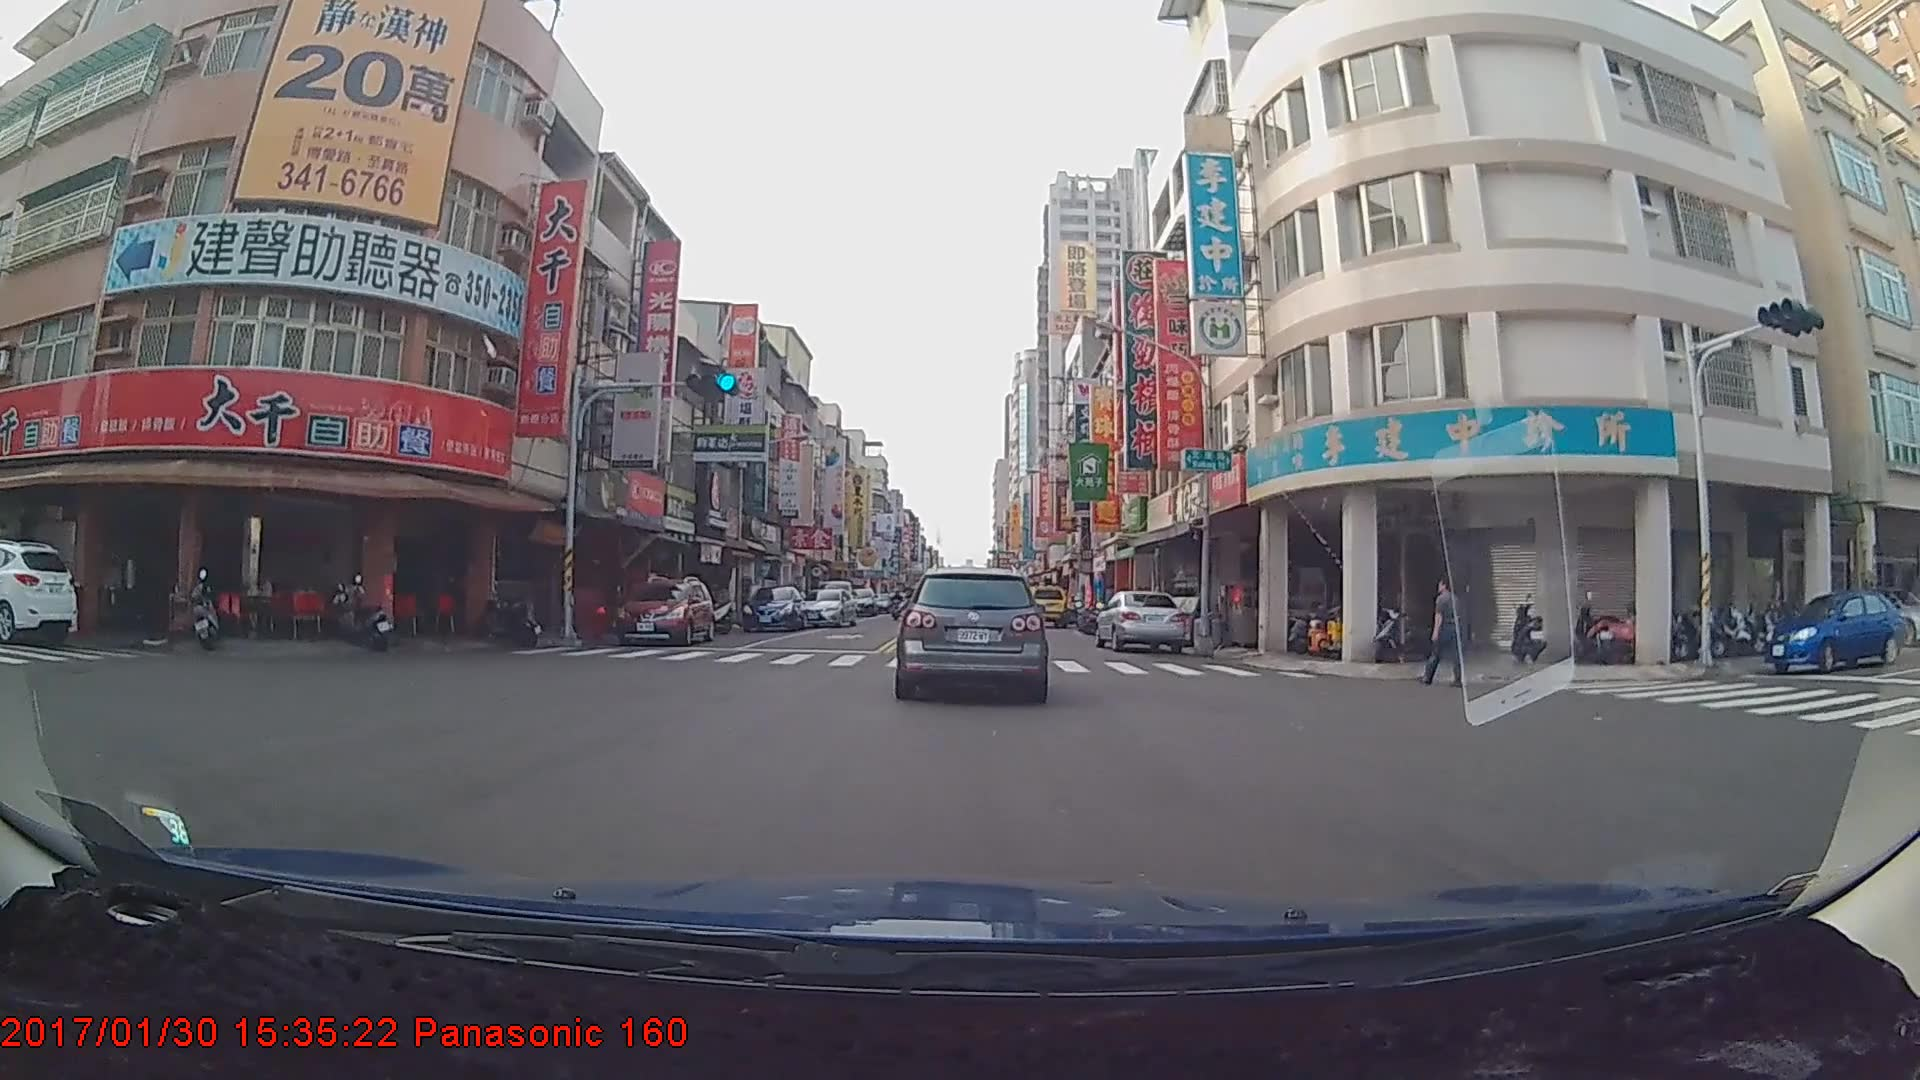pedestrian: (1424, 578, 1466, 692)
vehicle: (892, 568, 1047, 700), (1768, 589, 1902, 673), (0, 537, 78, 644), (615, 575, 713, 643), (1094, 589, 1185, 653), (737, 586, 805, 634), (801, 586, 856, 629), (1023, 582, 1067, 628)
